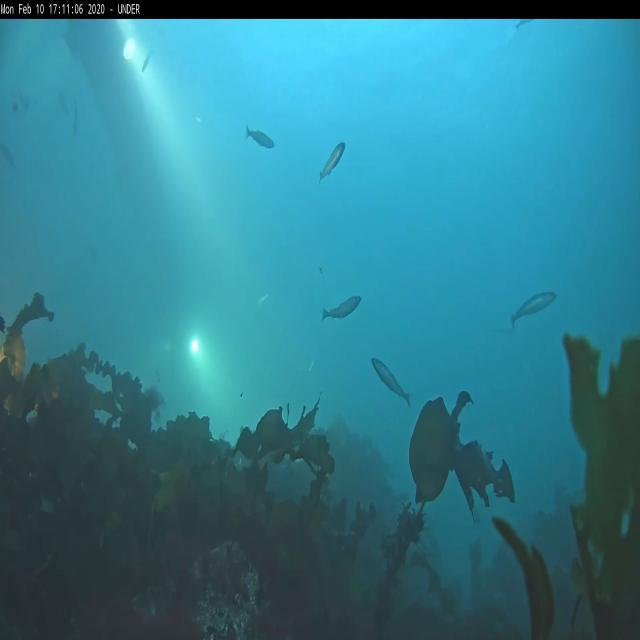fish: (372, 358, 412, 407), (509, 289, 555, 331), (320, 295, 362, 325), (319, 141, 343, 183), (245, 123, 274, 152)
